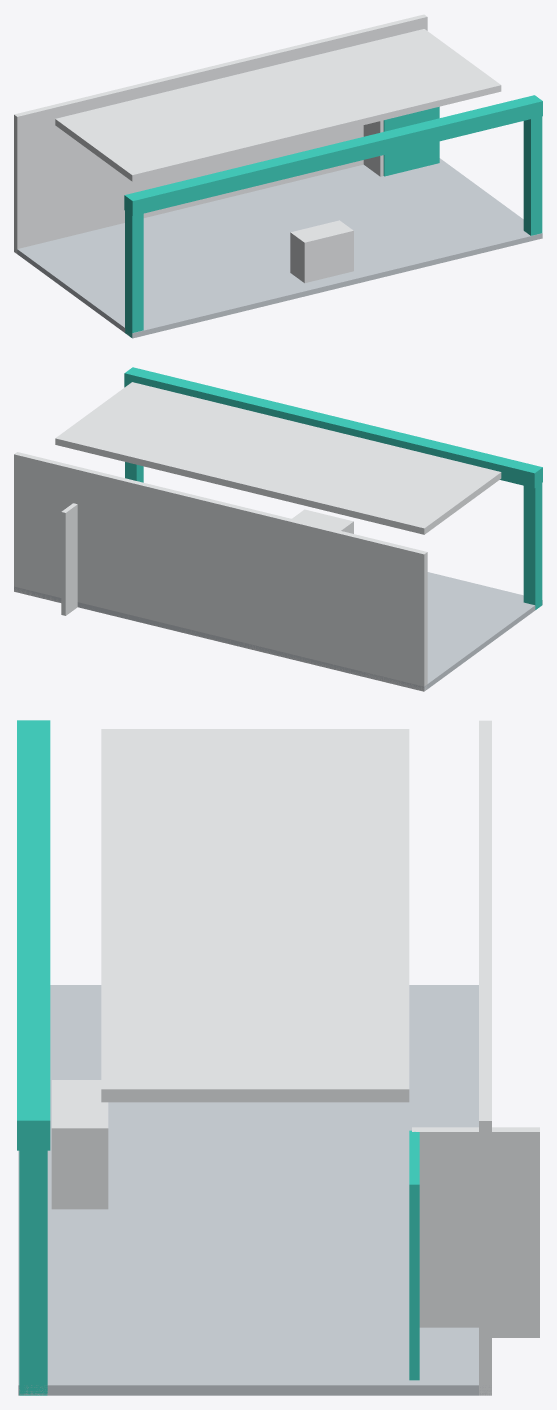
3 views of the same model, one above another, from view 1: azimuth 30°, elevation 25°; view 2: azimuth 150°, elevation 25°; view 3: azimuth 270°, elevation 25° (orthographic). The views are drawn at different scales.
Visible parts, largest first — view 1: Exhibition Booth Concept; view 2: Exhibition Booth Concept; view 3: Exhibition Booth Concept.
Part boxes in pixels (<box>): Exhibition Booth Concept: <box>14,14,542,338</box>; Exhibition Booth Concept: <box>14,367,542,691</box>; Exhibition Booth Concept: <box>17,720,539,1395</box>.
Size of the model in its own units: 10 by 3.34 by 5.52.
